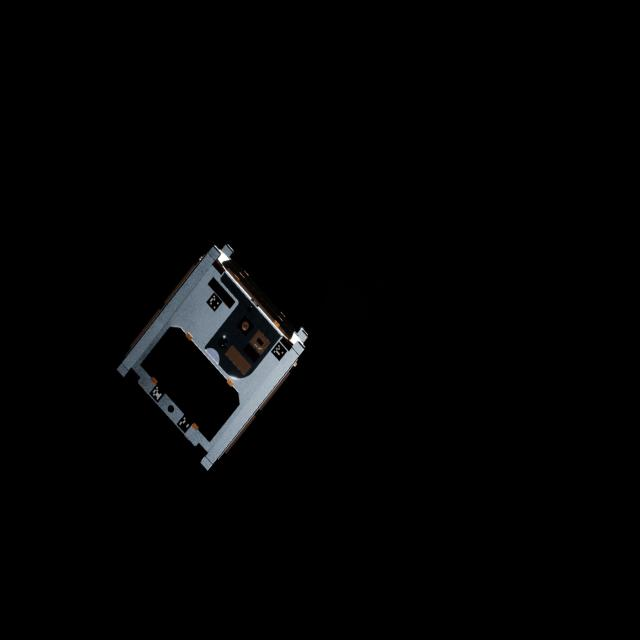medium_debris: (111, 239, 307, 481)
